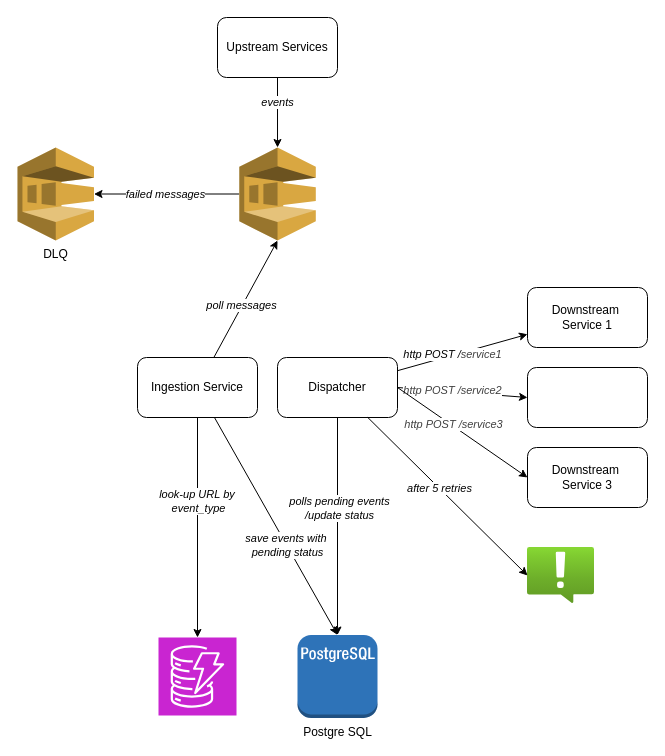
The diagram is 665 pixels wide and 756 high, and some of its shapes have lost their labels. The shapes that lost their labels are listed below. From the top down, each one's centre as x and y in pixels, then its label:
At point (277, 193): "SQS".
At point (587, 397): "Downstream Service 2".
At point (560, 575): "Cloadwatch Alarm/PagerDuty".
At point (197, 676): "DynamoDB".
